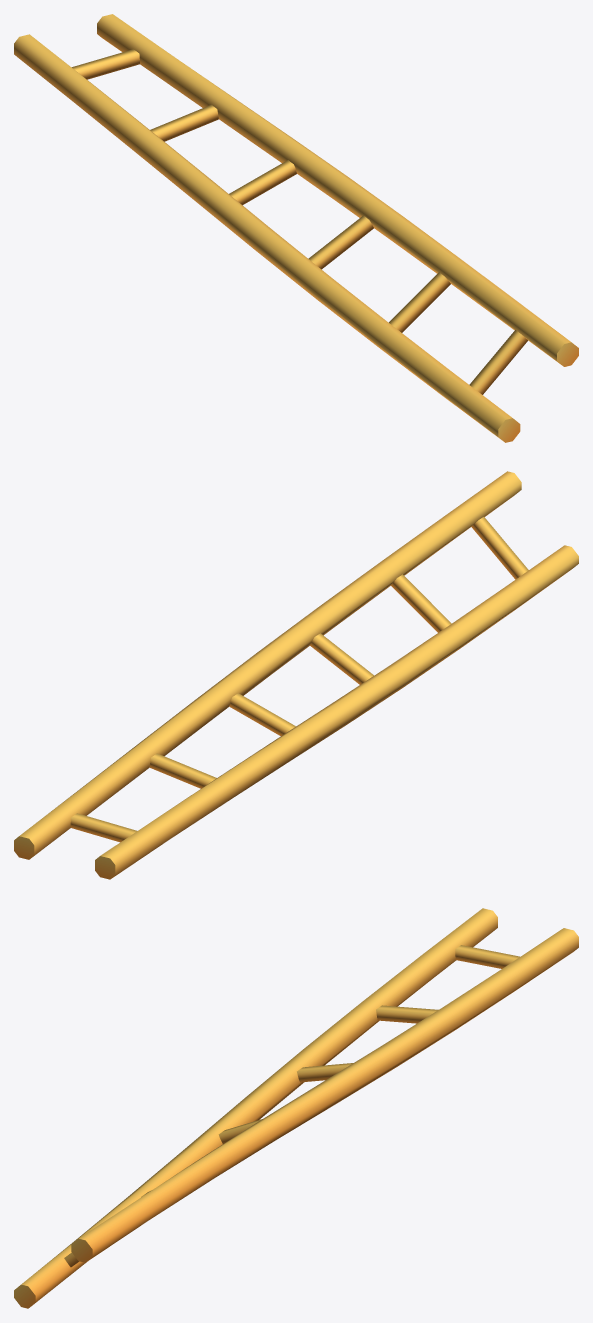
Rendered from kenney-coaster-coaster-mouse-straight-skew-right.glb.
3 views of the same model, one above another, from view 1: azimuth 30°, elevation 25°; view 2: azimuth 150°, elevation 25°; view 3: azimuth 330°, elevation 25° (orthographic). The views are drawn at different scales.
Parts seen in each view (by area): view 1: coaster-mouse-straight-skew-right; view 2: coaster-mouse-straight-skew-right; view 3: coaster-mouse-straight-skew-right.
Boxes of the visible parts, x1,y1,x2,y2 form: coaster-mouse-straight-skew-right: (14, 14, 578, 442); coaster-mouse-straight-skew-right: (14, 471, 578, 879); coaster-mouse-straight-skew-right: (14, 908, 578, 1308).
Bounding box in the file's own units: 0.5108 × 0.3887 × 4.
Materials: 1 (1 with a texture image).
